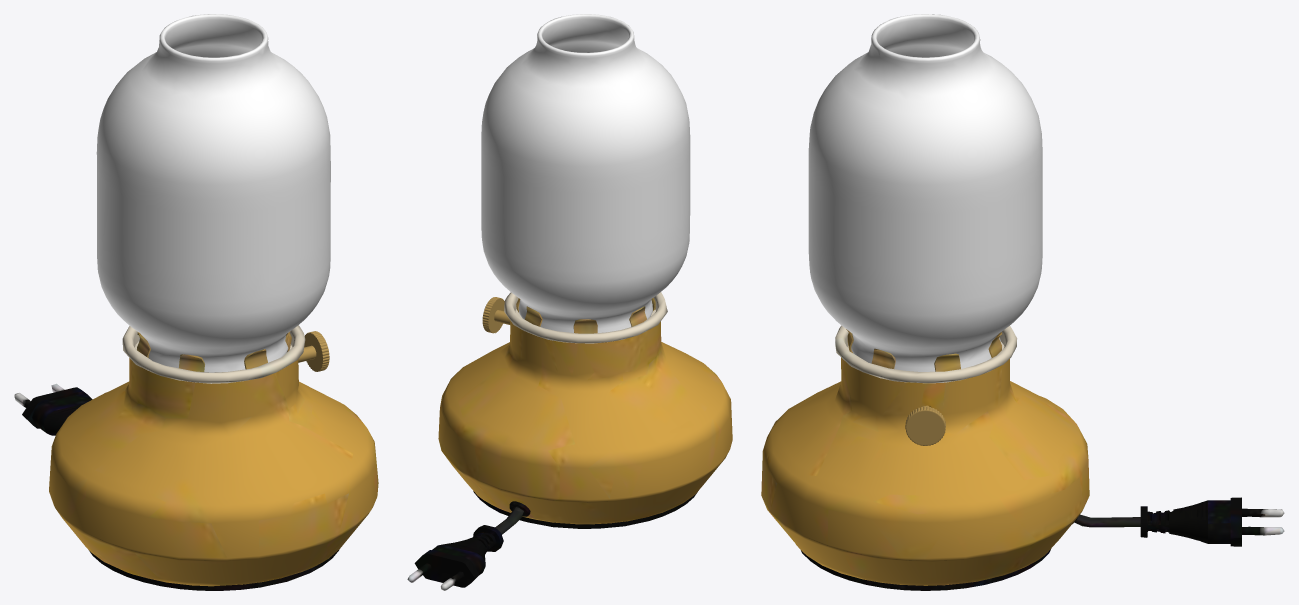
File: 22 - TÄRNABY Table lamp - dimmable dark yellow 25 cm.glb
The picture shows the model from 3 angles, left to right: view 1: azimuth 30°, elevation 25°; view 2: azimuth 150°, elevation 25°; view 3: azimuth 270°, elevation 25°; orthographic projection. The views are drawn at different scales.
Visible parts, largest first — view 1: ASY_ART_00577695_S02_NV01, ASY_LPT01_00577695_S01_NV01; view 2: ASY_ART_00577695_S02_NV01, ASY_LPT01_00577695_S01_NV01; view 3: ASY_ART_00577695_S02_NV01, ASY_LPT01_00577695_S01_NV01.
Boxes of the visible parts, left/top/right/bottom form: ASY_ART_00577695_S02_NV01: left=14, top=14, right=378, bottom=590; ASY_LPT01_00577695_S01_NV01: left=298, top=331, right=329, bottom=371; ASY_ART_00577695_S02_NV01: left=407, top=14, right=732, bottom=590; ASY_LPT01_00577695_S01_NV01: left=482, top=297, right=510, bottom=333; ASY_ART_00577695_S02_NV01: left=761, top=14, right=1284, bottom=590; ASY_LPT01_00577695_S01_NV01: left=905, top=405, right=945, bottom=445.
Size of the model in its own units: 0.1466 by 0.2457 by 0.2328.
Materials: 3 (3 with a texture image).
